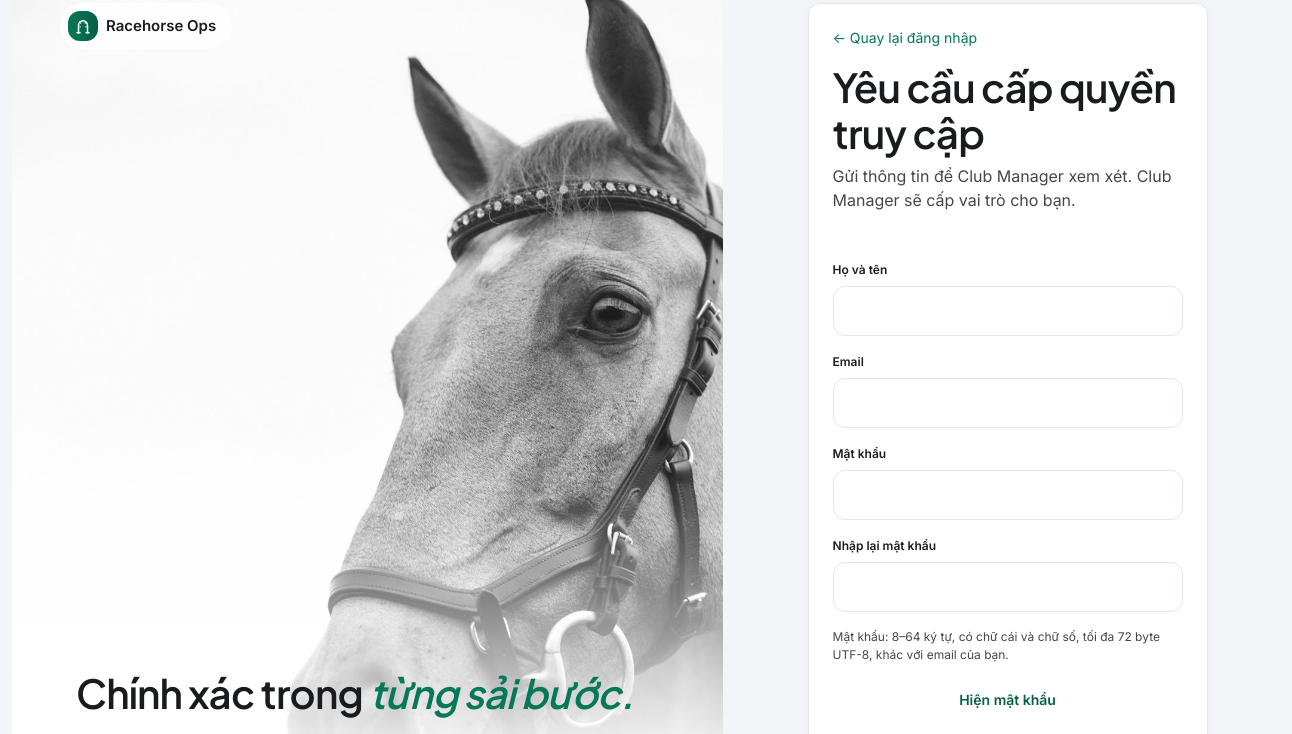
Test: CORE-048 public registration › blocks mismatched credentials and allows correction
Type "Applicant fixture" into the field labelled "Họ và tên". click: [1008, 311]
box: [832,286,1182,336]
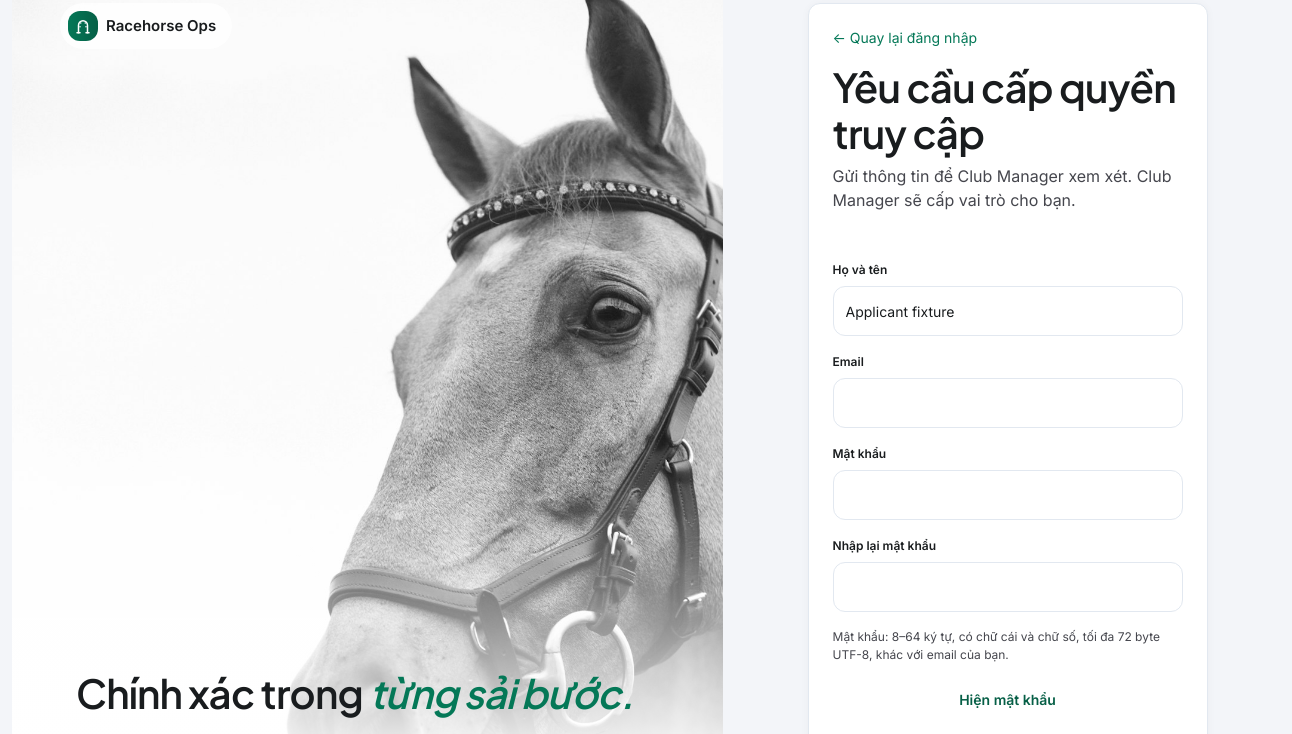
Type "applicant@example.test" into the field labelled "Email". click: [1008, 403]
box: [832,378,1182,428]
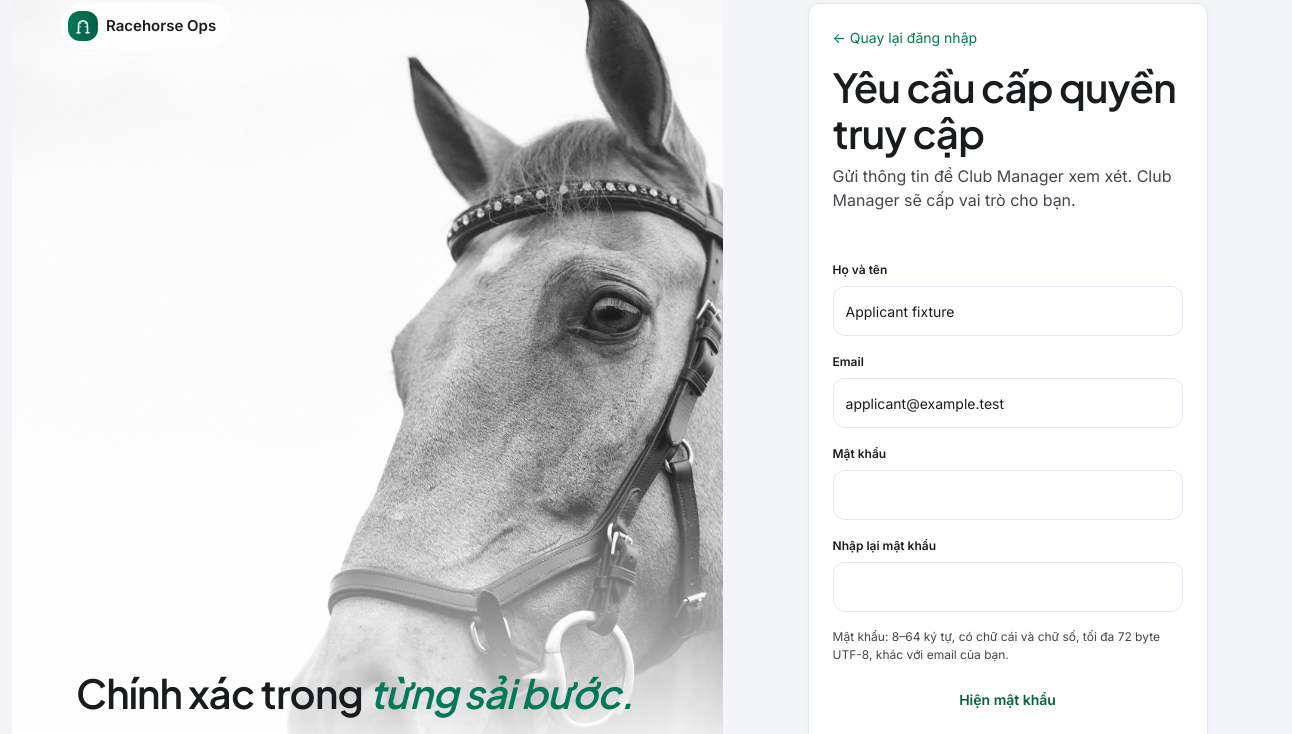
Type "FixturePassword123" into the password field labelled "Mật khẩu". click: [1008, 495]
box: [832,470,1182,520]
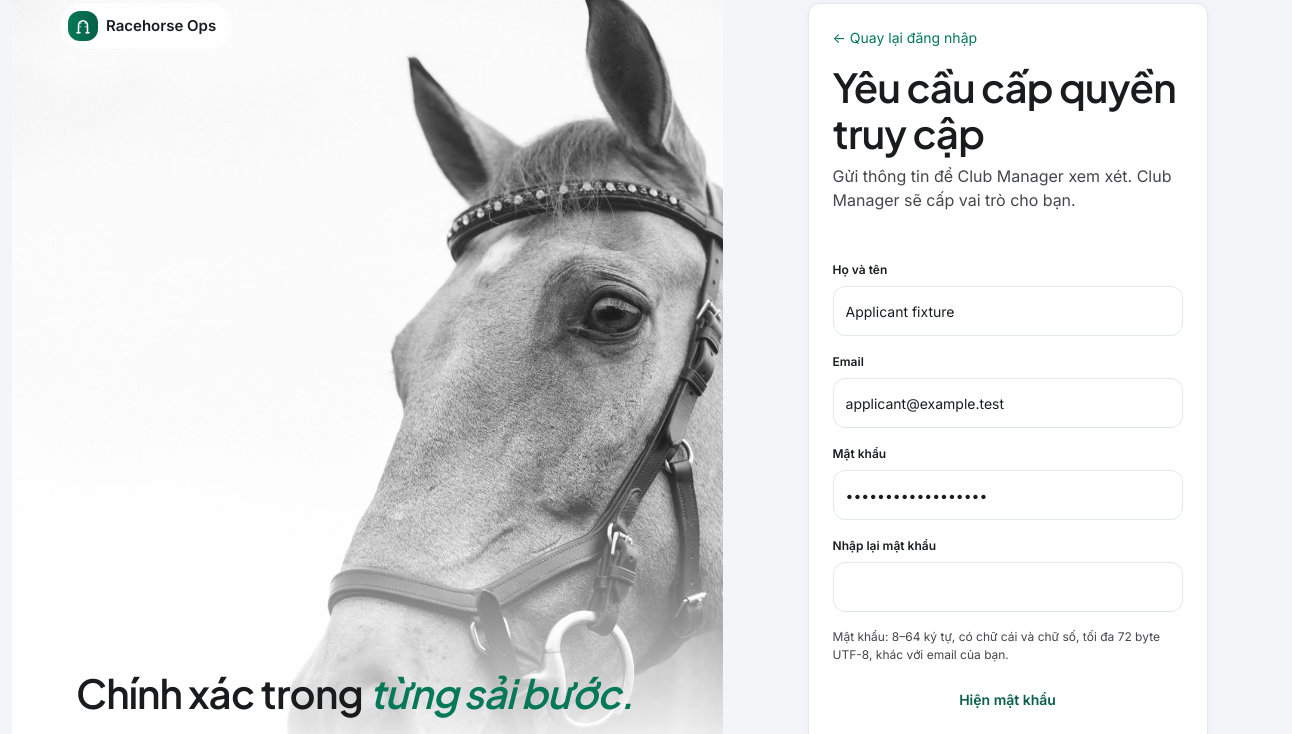
Type "FixturePassword123" into the password field labelled "Nhập lại mật khẩu". click: [1008, 587]
box: [832,562,1182,612]
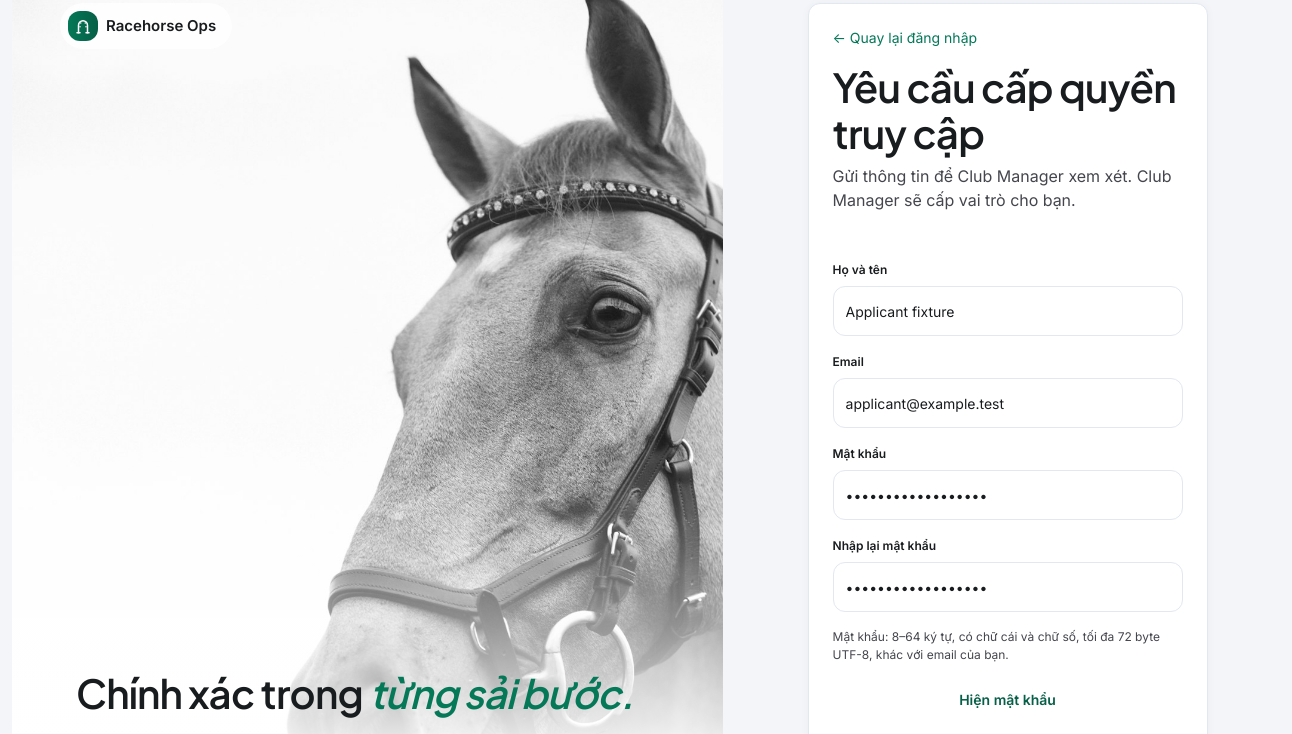
Type "mismatch" into the password field labelled "Nhập lại mật khẩu". click: [1008, 587]
box: [832,562,1182,612]
(page scrolled)
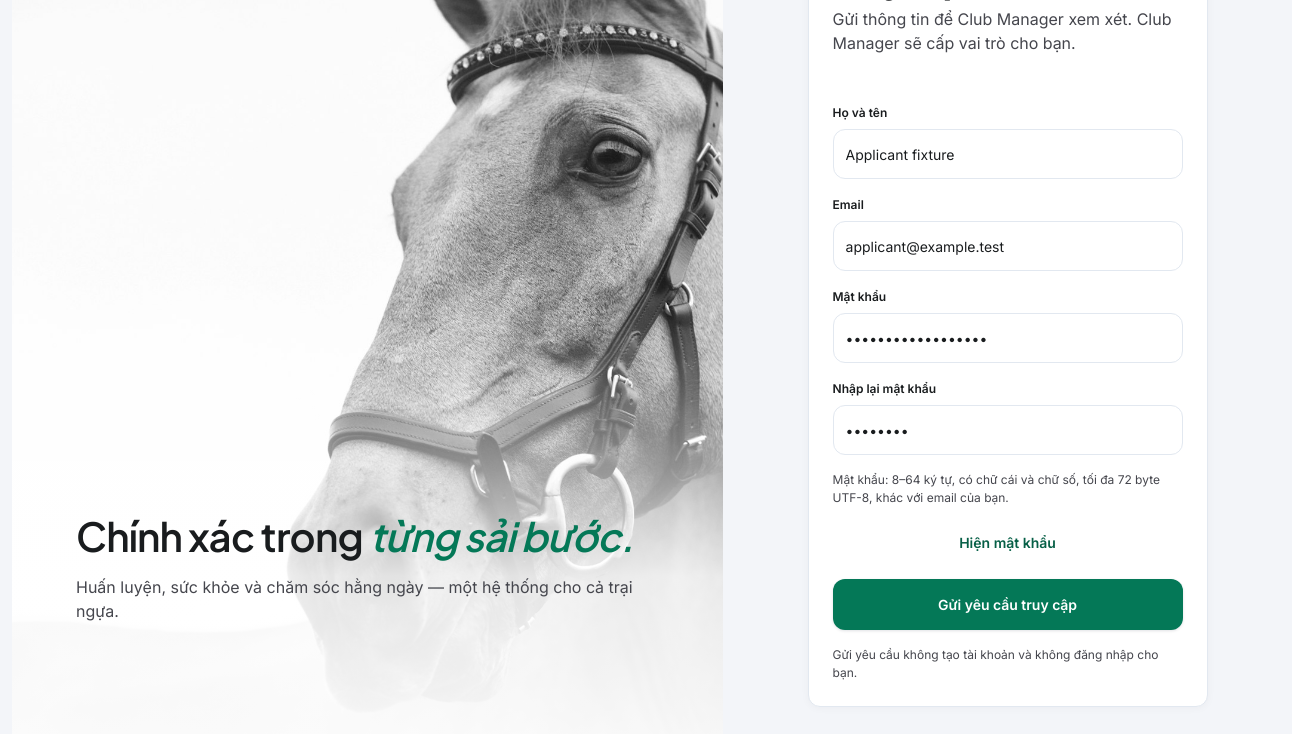
Click the button "Gửi yêu cầu truy cập". click: [1008, 604]
box: [832,579,1182,630]
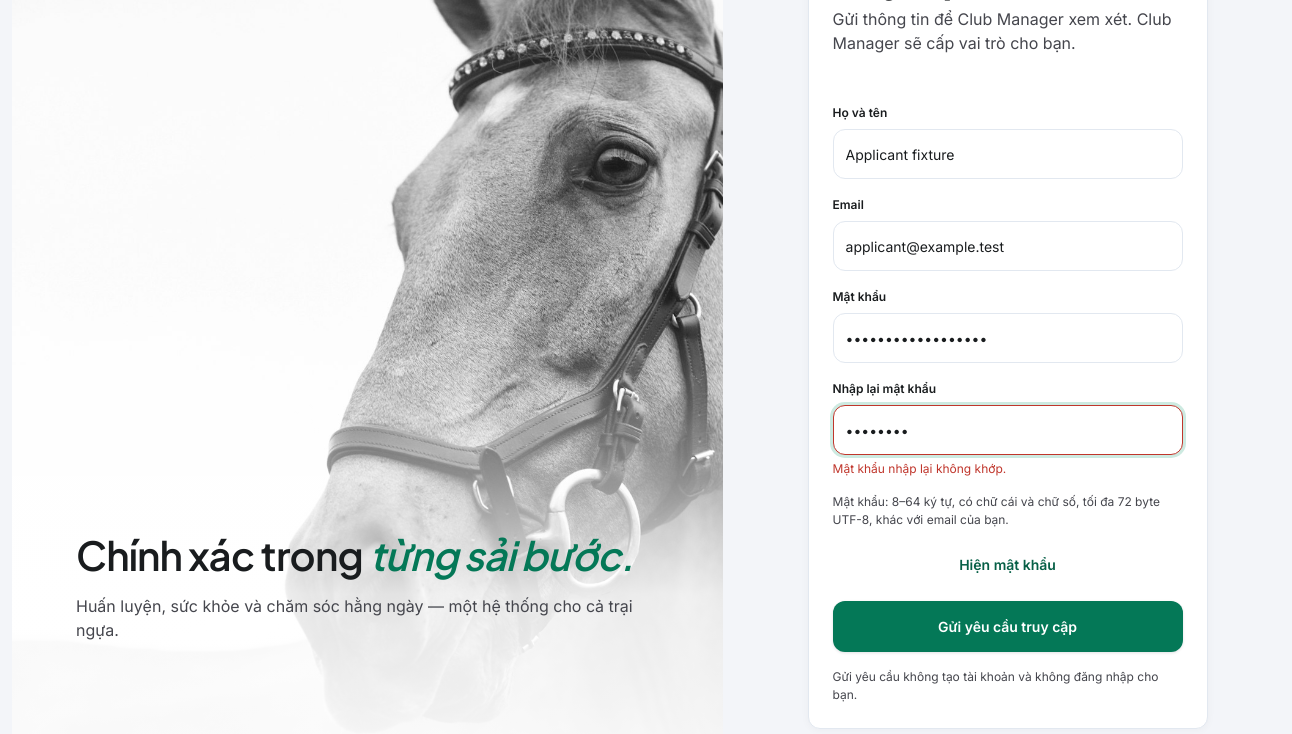
Expected: the text "Mật khẩu nhập lại không khớp." is shown, [832,461,1006,476]
